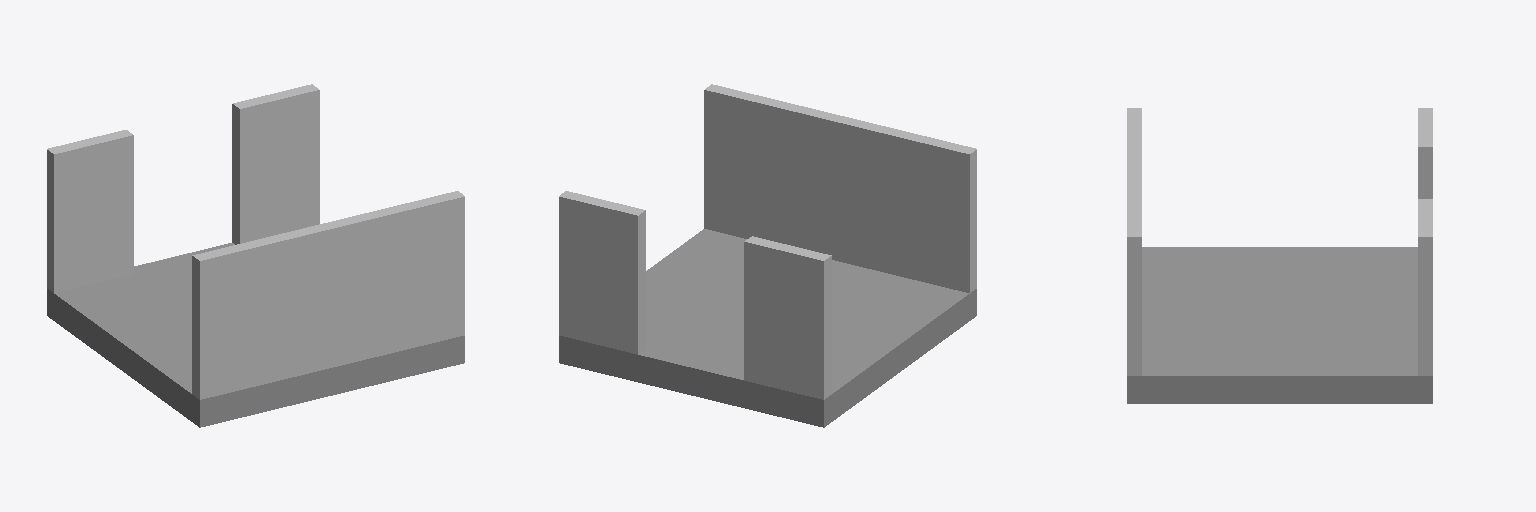
Rendered from hallway-wide_doorway_1.obj.
3 renders of one model, left to right at view 1: azimuth 30°, elevation 25°; view 2: azimuth 150°, elevation 25°; view 3: azimuth 270°, elevation 25°, orthographic.
Parts seen in each view (by area): view 1: Cube.002, Cube, Cube.003, Cube.001; view 2: Cube.002, Cube, Cube.003, Cube.001; view 3: Cube, Cube.002, Cube.001, Cube.003.
Part boxes in pixels (bbox=[...]): Cube.002: bbox=[192, 191, 464, 399]; Cube: bbox=[47, 243, 464, 427]; Cube.003: bbox=[47, 130, 133, 292]; Cube.001: bbox=[232, 84, 319, 244]; Cube.002: bbox=[704, 84, 976, 292]; Cube: bbox=[559, 229, 976, 427]; Cube.003: bbox=[744, 236, 831, 399]; Cube.001: bbox=[559, 191, 645, 354]; Cube: bbox=[1127, 247, 1432, 403]; Cube.002: bbox=[1127, 108, 1141, 375]; Cube.001: bbox=[1418, 199, 1432, 375]; Cube.003: bbox=[1418, 108, 1432, 198].
Bounding box in the file's own units: 10 × 6 × 10.